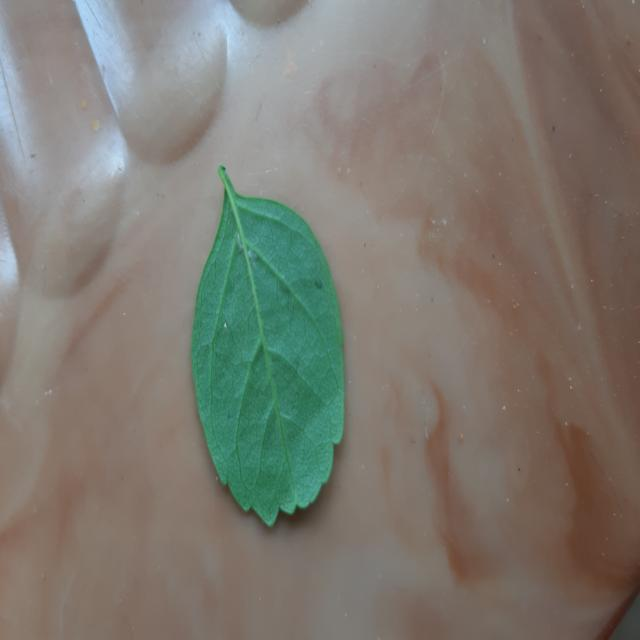tecoma: (191, 167, 344, 524)
